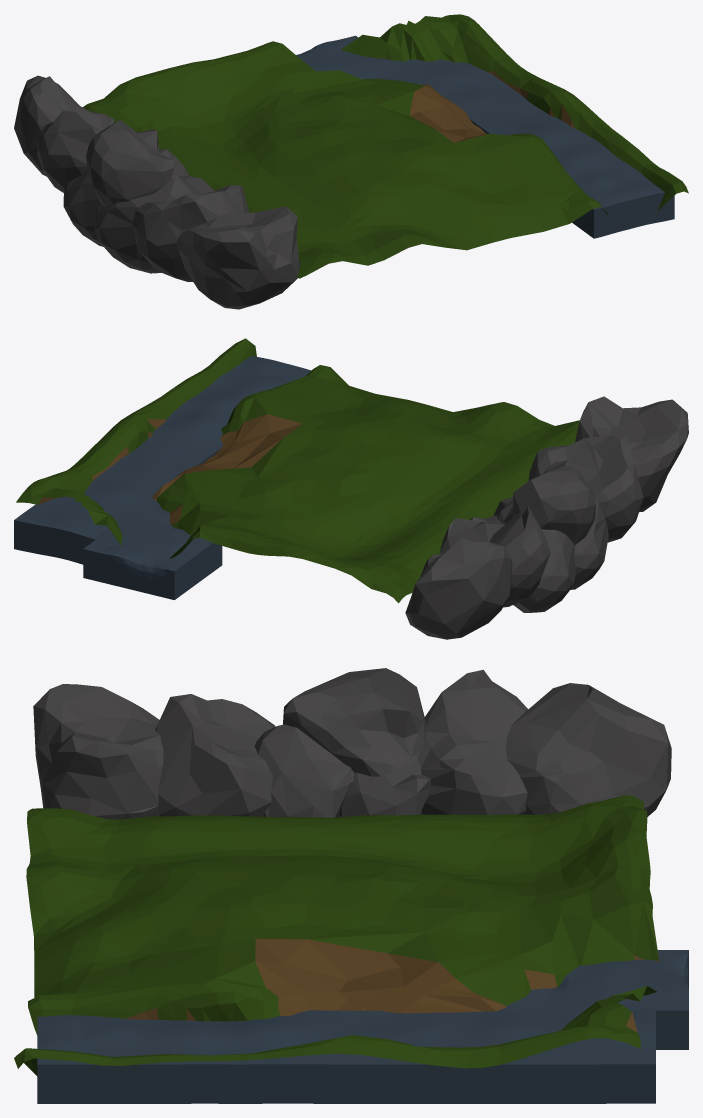
The model's file is Landscape.gltf.
The picture shows the model from 3 angles, top to bottom: view 1: azimuth 30°, elevation 25°; view 2: azimuth 150°, elevation 25°; view 3: azimuth 270°, elevation 25°; orthographic projection. The views are drawn at different scales.
Parts seen in each view (by area): view 1: Plane, Plane.001; view 2: Plane, Plane.001; view 3: Plane, Plane.001.
Part boxes in pixels (box(x1,y1,x2,y2)): Plane: box(14, 14, 688, 309); Plane.001: box(296, 35, 674, 238); Plane: box(16, 338, 688, 639); Plane.001: box(14, 356, 311, 599); Plane: box(14, 668, 671, 1076); Plane.001: box(37, 950, 688, 1103).
Bounding box in the file's own units: 50.07 × 12.95 × 44.81.
